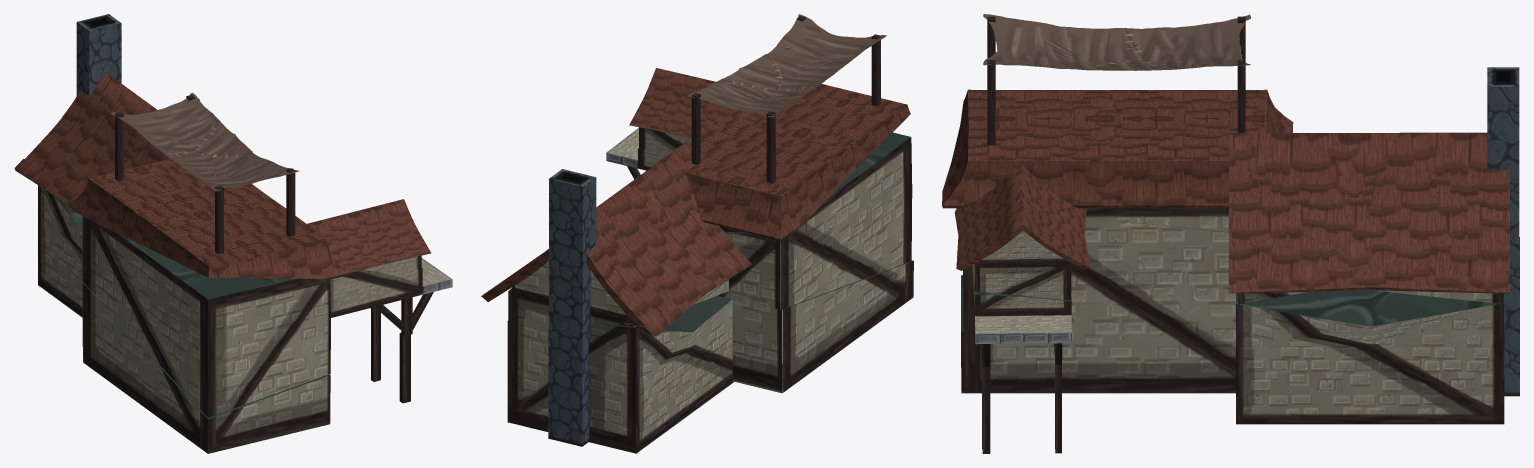
Rendered from house2_shatter.fbx.
The picture shows the model from 3 angles, left to right: view 1: azimuth 30°, elevation 25°; view 2: azimuth 150°, elevation 25°; view 3: azimuth 270°, elevation 25°; orthographic projection. The views are drawn at different scales.
Parts seen in each view (by area): view 1: polySurface67, polySurface88, polySurface65, polySurface77, polySurface114, polySurface73, polySurface70, polySurface74; view 2: polySurface88, polySurface70, polySurface77, polySurface67, polySurface65, polySurface114, polySurface74, polySurface73; view 3: polySurface77, polySurface88, polySurface70, polySurface65, polySurface67, polySurface114, polySurface73.
Part boxes in pixels (x1,y1,x2,y2): polySurface67: [82, 217, 330, 417]; polySurface88: [68, 95, 431, 279]; polySurface65: [82, 282, 410, 453]; polySurface77: [22, 14, 286, 208]; polySurface114: [110, 93, 298, 191]; polySurface73: [330, 258, 452, 335]; polySurface70: [38, 185, 82, 317]; polySurface74: [14, 159, 84, 204]; polySurface88: [629, 16, 910, 241]; polySurface70: [507, 295, 734, 453]; polySurface77: [481, 140, 725, 329]; polySurface67: [724, 132, 912, 310]; polySurface65: [718, 241, 913, 393]; polySurface114: [687, 14, 886, 117]; polySurface74: [623, 236, 751, 336]; polySurface73: [606, 128, 675, 179]; polySurface77: [1229, 67, 1519, 303]; polySurface88: [942, 16, 1293, 300]; polySurface70: [1236, 237, 1519, 424]; polySurface65: [961, 275, 1235, 453]; polySurface67: [963, 217, 1228, 331]; polySurface114: [983, 14, 1250, 70]; polySurface73: [972, 230, 1071, 371].
Bounding box in the file's own units: 5.44 × 5.21 × 8.49.
